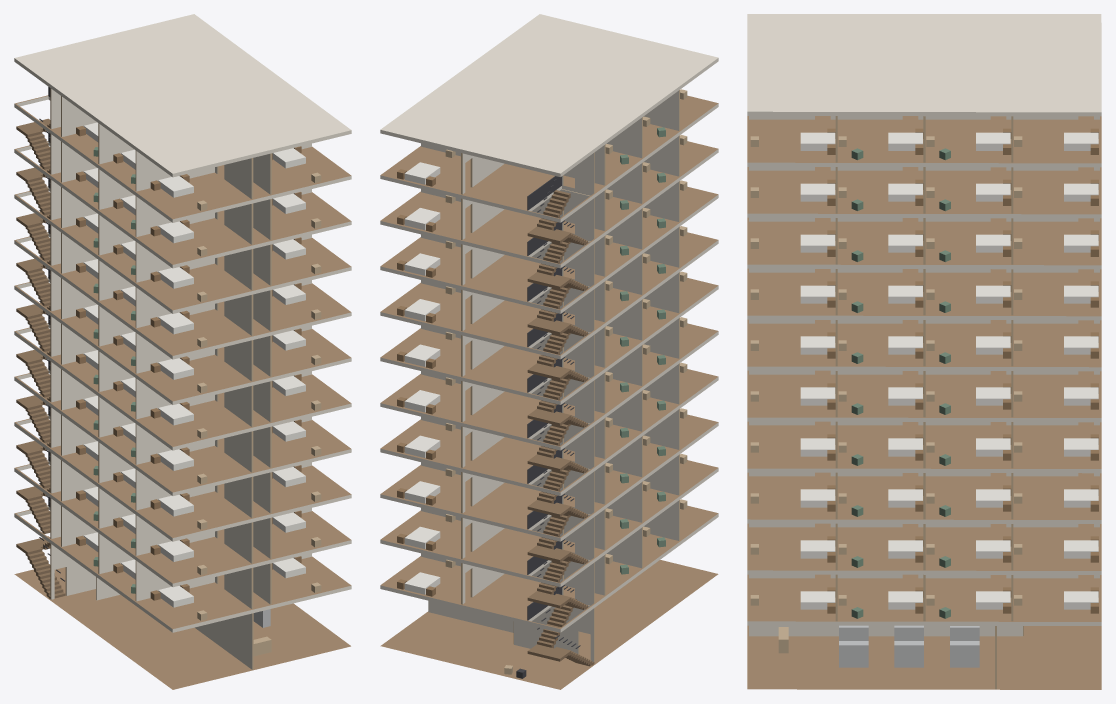
The model's file is interior.glb.
3 views of the same model, side by side, from view 1: azimuth 30°, elevation 25°; view 2: azimuth 150°, elevation 25°; view 3: azimuth 270°, elevation 25° (orthographic). The views are drawn at different scales.
Parts seen in each view (by area): view 1: slabs, partitions, stair, coarse-s9, coarse-s2, coarse-s7, coarse-s8, coarse-s1, coarse-s6, coarse-s3, coarse-s4, coarse-s5 (+2 smaller); view 2: slabs, partitions, stair, coarse-s1, coarse-s10, coarse-s3, coarse-s5, coarse-s6, coarse-s8, coarse-s2, coarse-s7, coarse-s4 (+1 smaller); view 3: slabs, partitions, coarse-s0, coarse-s3, coarse-s1, coarse-s2, coarse-s4, coarse-s5, coarse-s6, coarse-s10, coarse-s7, coarse-s8 (+1 smaller).
Part boxes in pixels (x1,y1,x2,y2): slabs: (14,14,351,689); partitions: (50,88,311,669); stair: (16,87,65,598); coarse-s9: (76,168,321,256); coarse-s2: (76,486,321,575); coarse-s7: (76,259,321,347); coarse-s8: (76,213,321,301); coarse-s1: (76,532,321,620); coarse-s6: (76,304,321,392); coarse-s3: (76,441,321,529); coarse-s4: (76,395,321,483); coarse-s5: (76,350,321,438); slabs: (380,14,718,689); partitions: (421,90,679,663); stair: (527,176,594,666); coarse-s1: (397,499,687,596); coarse-s10: (397,89,687,186); coarse-s3: (397,408,687,505); coarse-s5: (397,317,687,414); coarse-s6: (397,271,687,368); coarse-s8: (397,180,687,277); coarse-s2: (397,453,687,550); coarse-s7: (397,226,687,323); coarse-s4: (397,362,687,459); slabs: (747,14,1101,689); partitions: (749,116,1099,689); coarse-s0: (778,625,979,667); coarse-s3: (750,485,1098,516); coarse-s1: (750,587,1098,618); coarse-s2: (750,536,1098,567); coarse-s4: (750,434,1098,465); coarse-s5: (750,383,1098,414); coarse-s6: (750,332,1098,363); coarse-s10: (750,128,1098,160); coarse-s7: (750,281,1098,312); coarse-s8: (750,230,1098,261).
Bounding box in the file's own units: 13.42 × 36.78 × 20.45.
